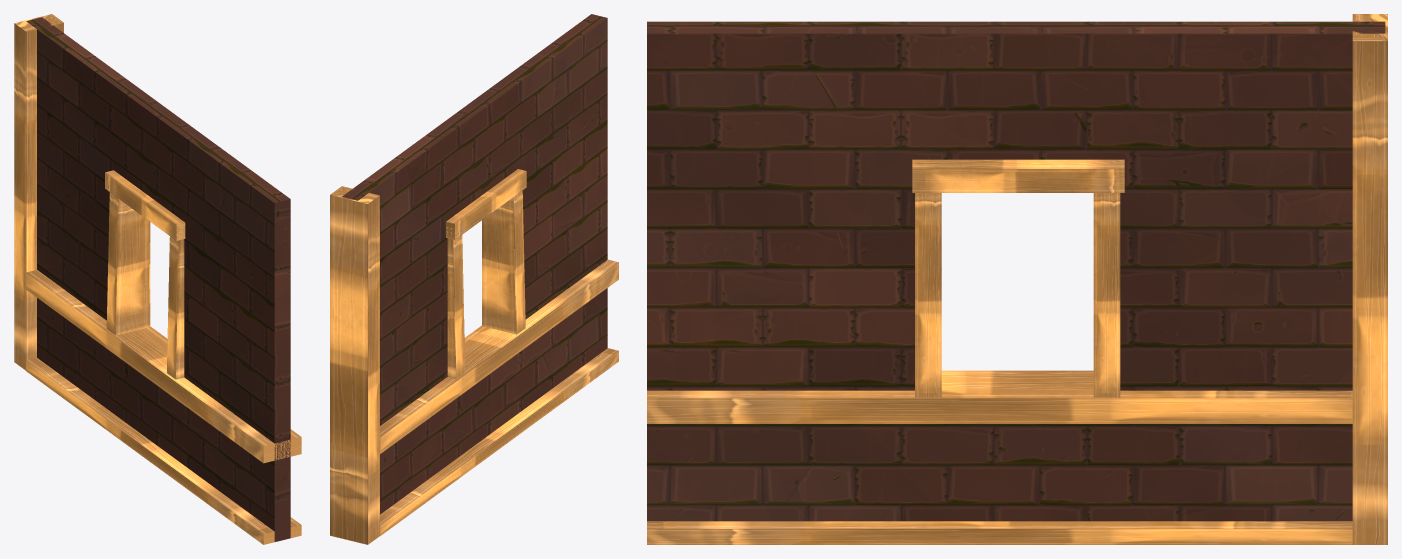
The model's file is SM_Window_Wall_01.fbx.
3 renders of one model, left to right at view 1: azimuth 30°, elevation 25°; view 2: azimuth 150°, elevation 25°; view 3: azimuth 270°, elevation 25°, orthographic. The views are drawn at different scales.
Parts seen in each view (by area): view 1: SM_Window_Wall_01; view 2: SM_Window_Wall_01; view 3: SM_Window_Wall_01.
Boxes of the visible parts, x1,y1,x2,y2 form: SM_Window_Wall_01: (14,14,301,544); SM_Window_Wall_01: (330,14,618,544); SM_Window_Wall_01: (647,14,1387,544).
Size of the model in its own units: 37.36 by 300 by 400.
